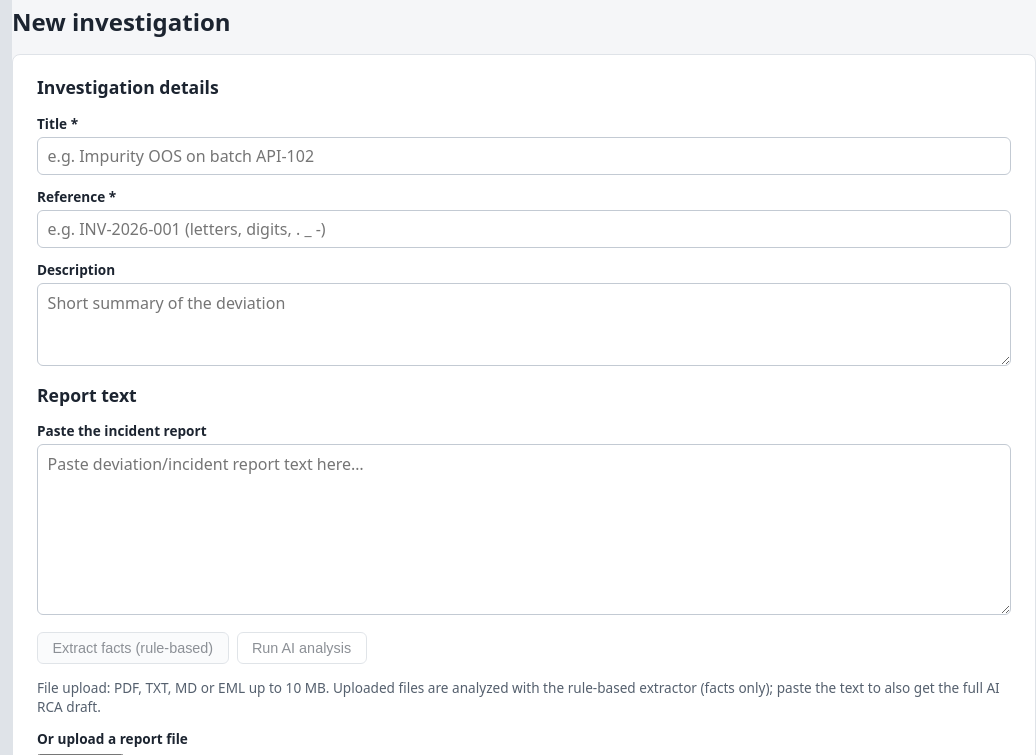
shows backend validation errors, not silent failure
Type "batch API-102 impurity 2.1%" into the text box labelled "Paste the incident report" at (524, 530), box [37,444,1011,615]
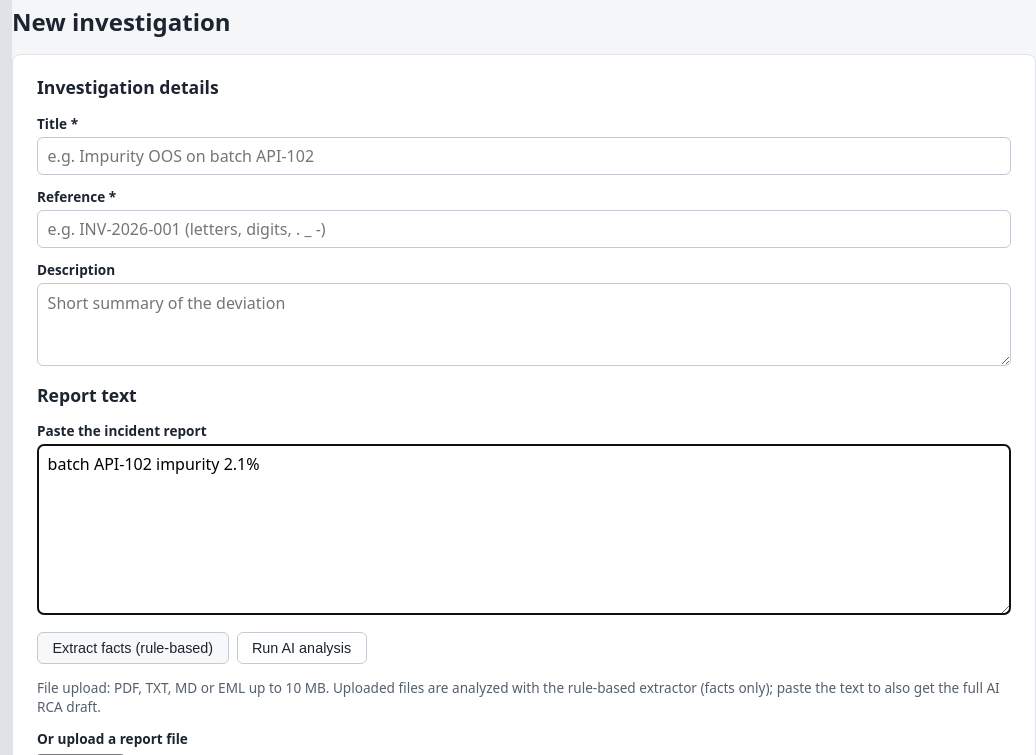
Click the button "Run AI analysis" at (302, 648), box [236,632,366,664]
(page scrolled)
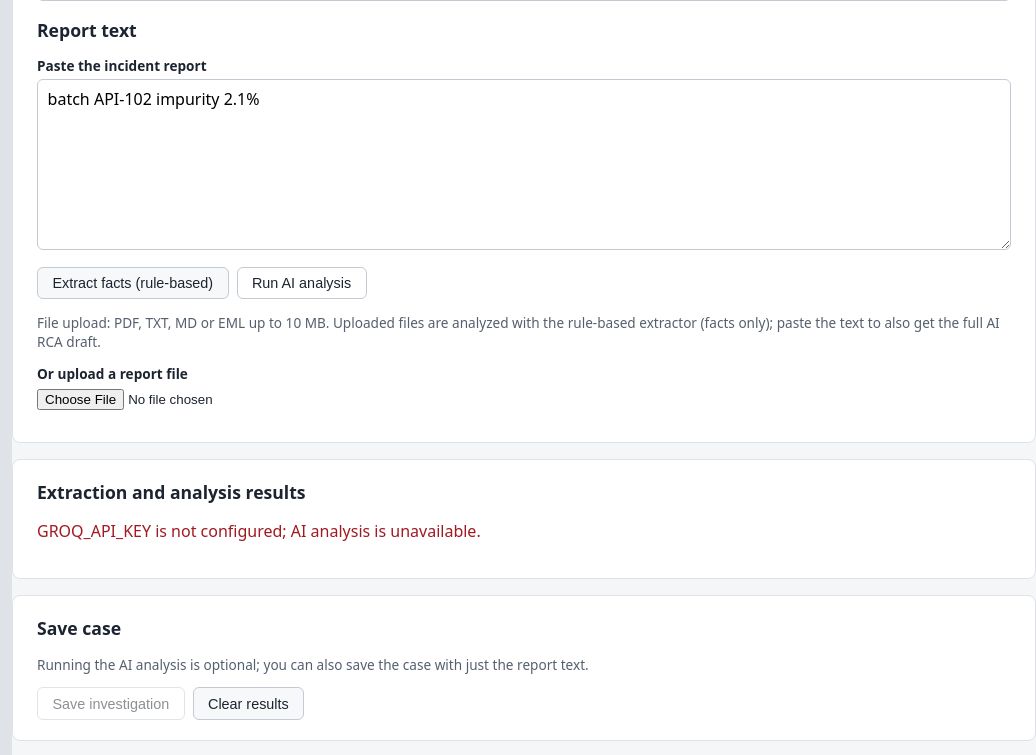
Now the text "GROQ_API_KEY is not configured; AI analysis is unavailable." is shown, box [37,520,481,542]
